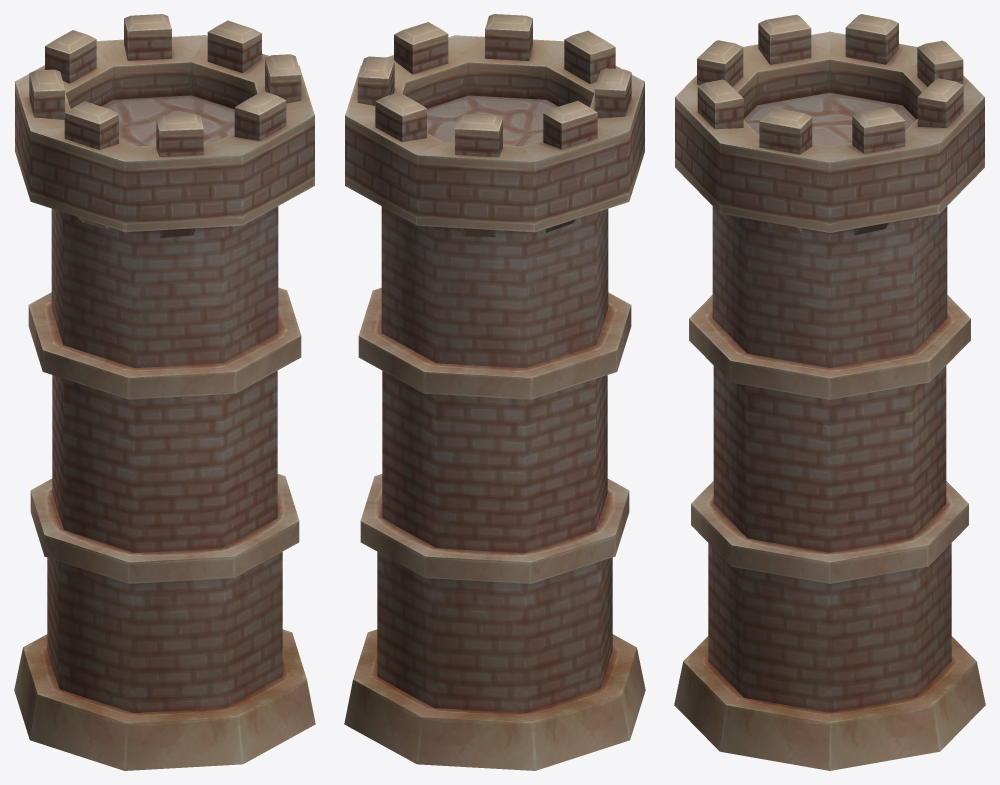
File: castleWalls_tower_3.FBX
The picture shows the model from 3 angles, left to right: view 1: azimuth 30°, elevation 25°; view 2: azimuth 150°, elevation 25°; view 3: azimuth 270°, elevation 25°; orthographic projection.
Parts seen in each view (by area): view 1: castleWalls_tower_3; view 2: castleWalls_tower_3; view 3: castleWalls_tower_3.
Part boxes in pixels (x1,y1,x2,y2): castleWalls_tower_3: [14, 14, 315, 770]; castleWalls_tower_3: [344, 14, 645, 770]; castleWalls_tower_3: [674, 14, 985, 770].
Bounding box in the file's own units: 308 × 695 × 308.
1 material, 1 textured.
